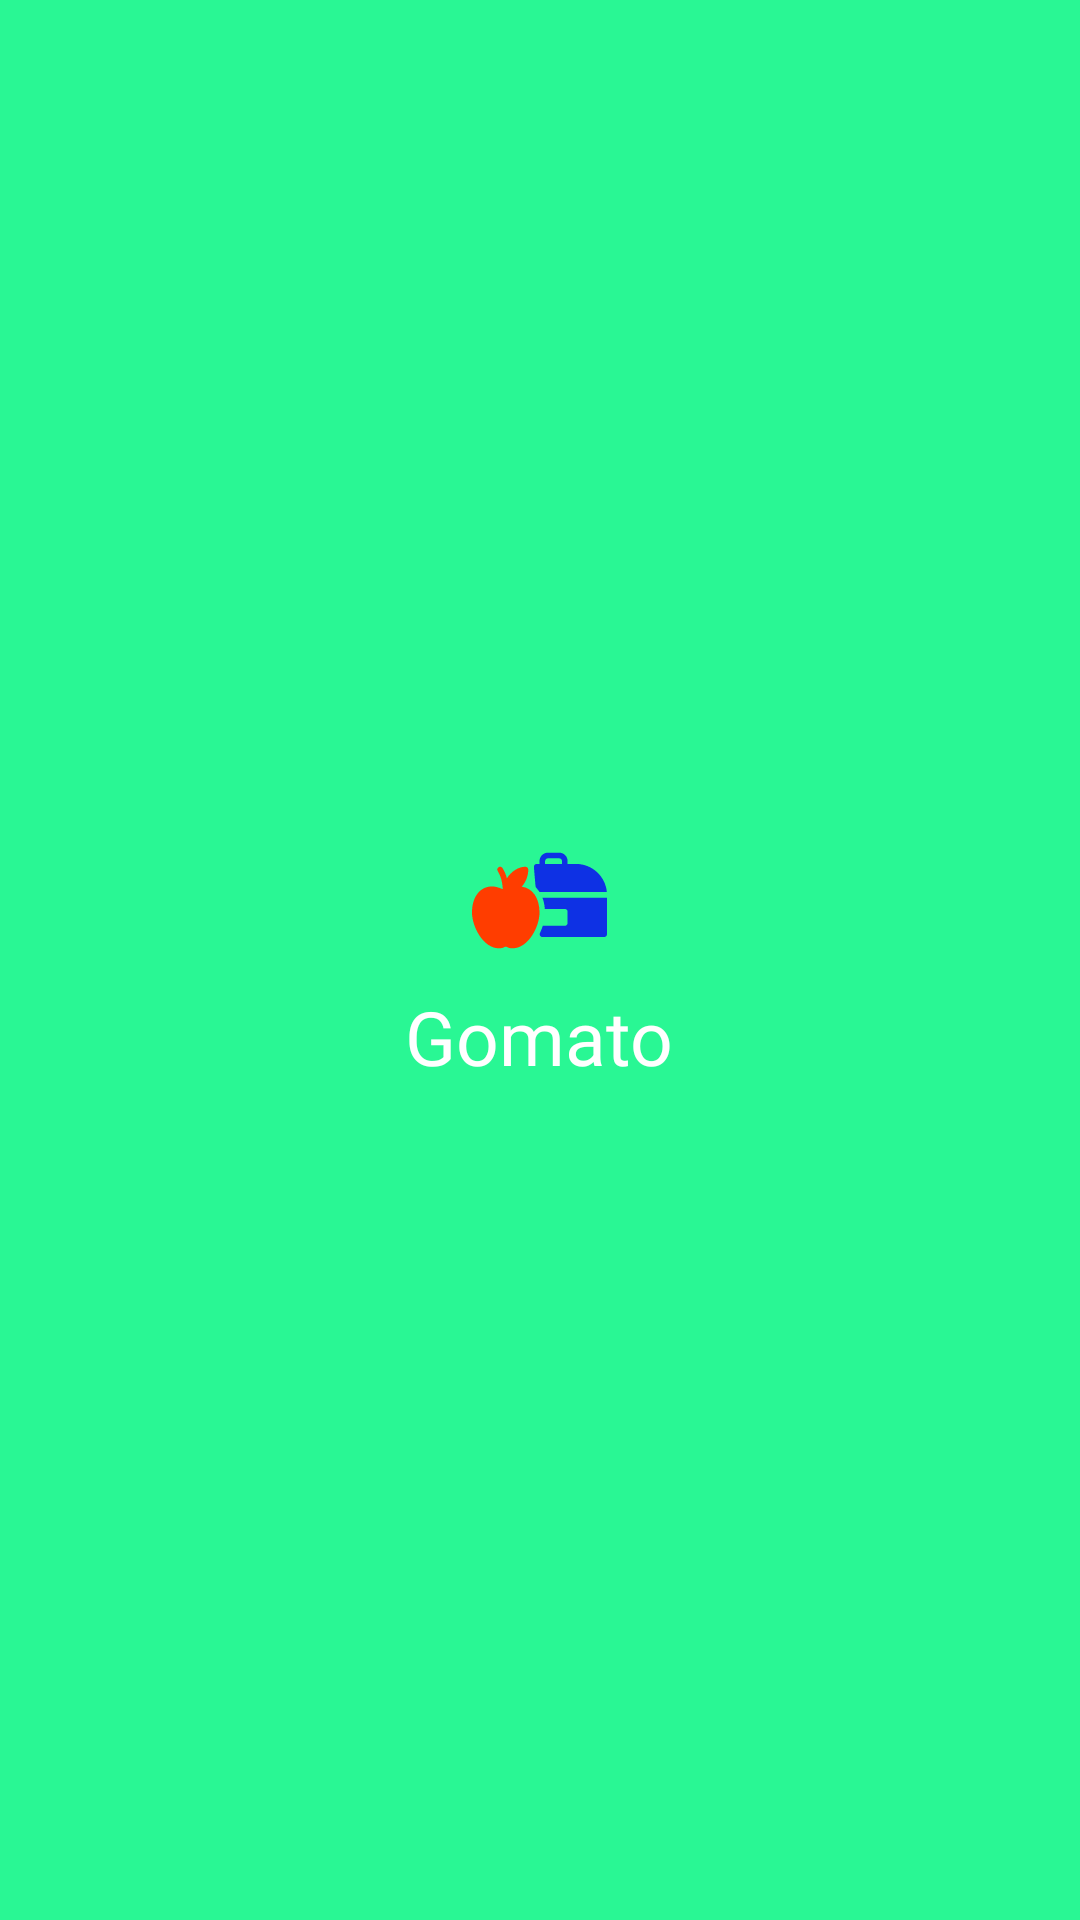

Locate icon controls on the screen. Image size 1080px×1920px, boxes as (x1, y1, x2, y2).
lunchbox: (472, 852, 607, 949)
